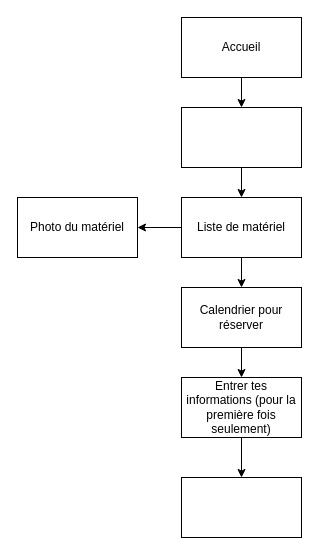
Image size: 319x555. Some labels were removed from this diagram. The centre of each missing label's shape, as x and y in pixels:
"Choisir le cours" goes at pixel 241 137.
"Statut du matériel (à venir, prêt, à retourner)" goes at pixel 241 507.
